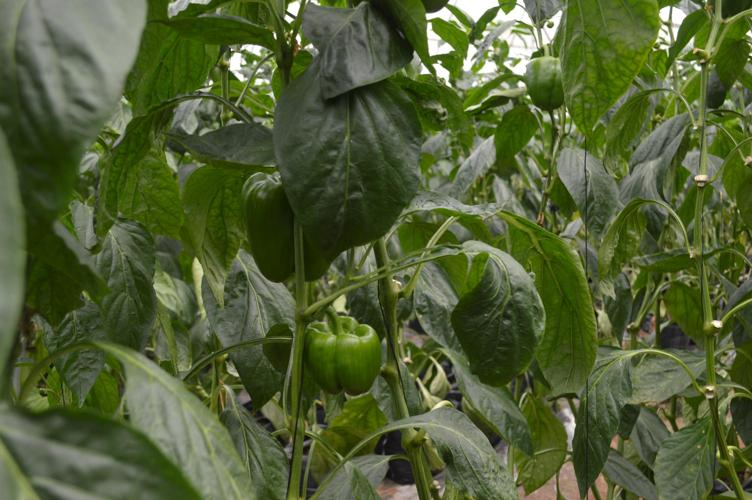BellPepper: (237, 177, 350, 321), (300, 316, 392, 421), (518, 48, 587, 105)
